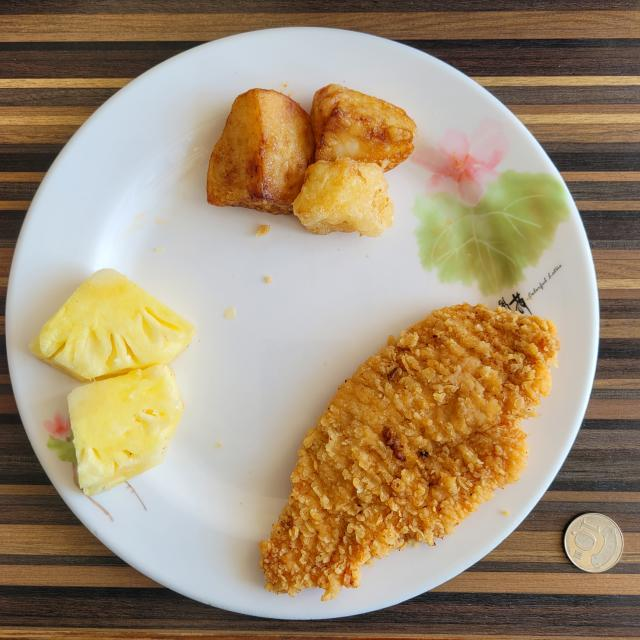coin: (564, 512, 624, 572)
fried chicken cutlet: (259, 304, 560, 600)
fried potato: (206, 84, 416, 238)
pineapple: (30, 269, 195, 496)
